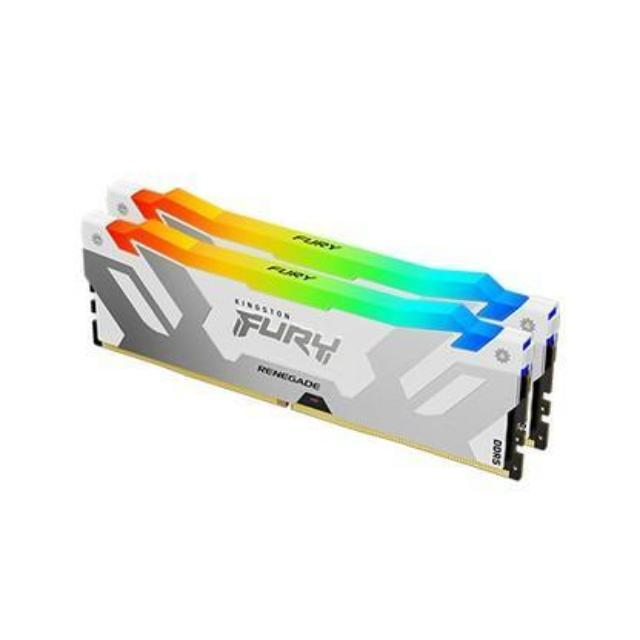RAM: (71, 175, 568, 488)
